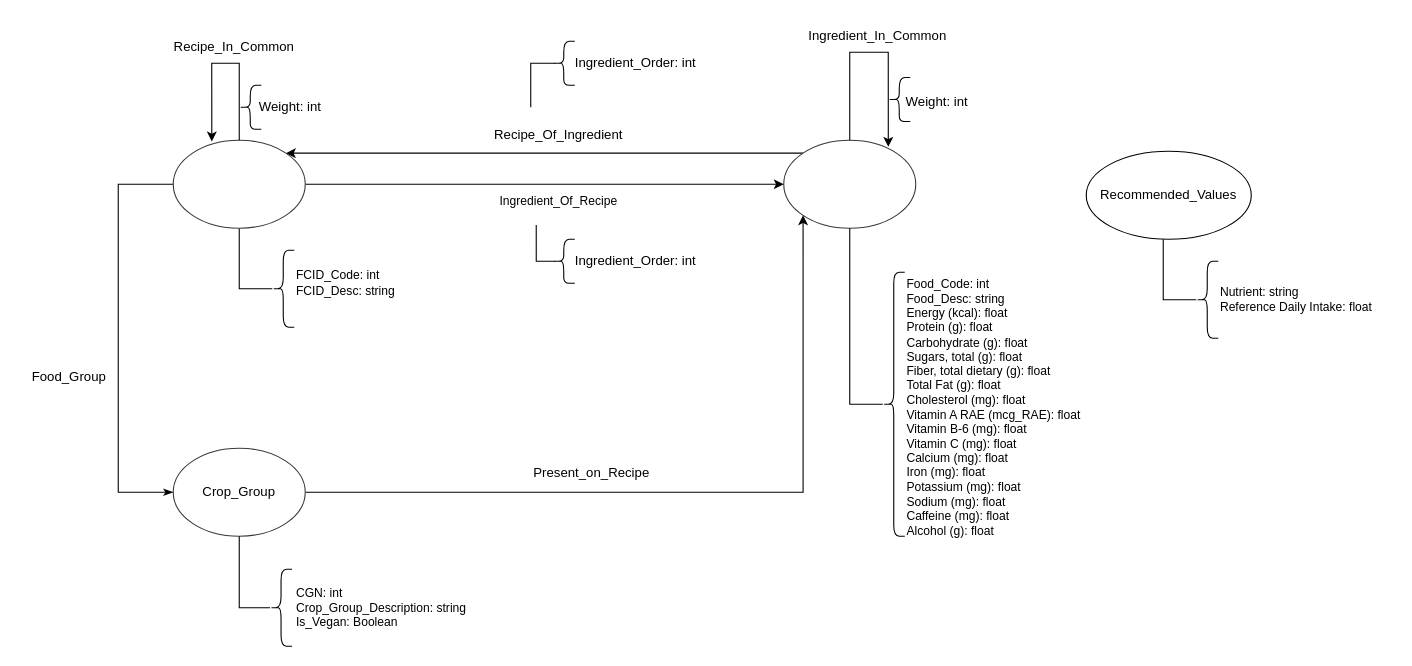
This 1412x666 diagram has some shape labels left out. The shapes that lost their labels are listed below. From the top down, each one's centre as x and y in pixels, then its label:
pixel 238 183: Ingredient
pixel 849 183: Recipe
